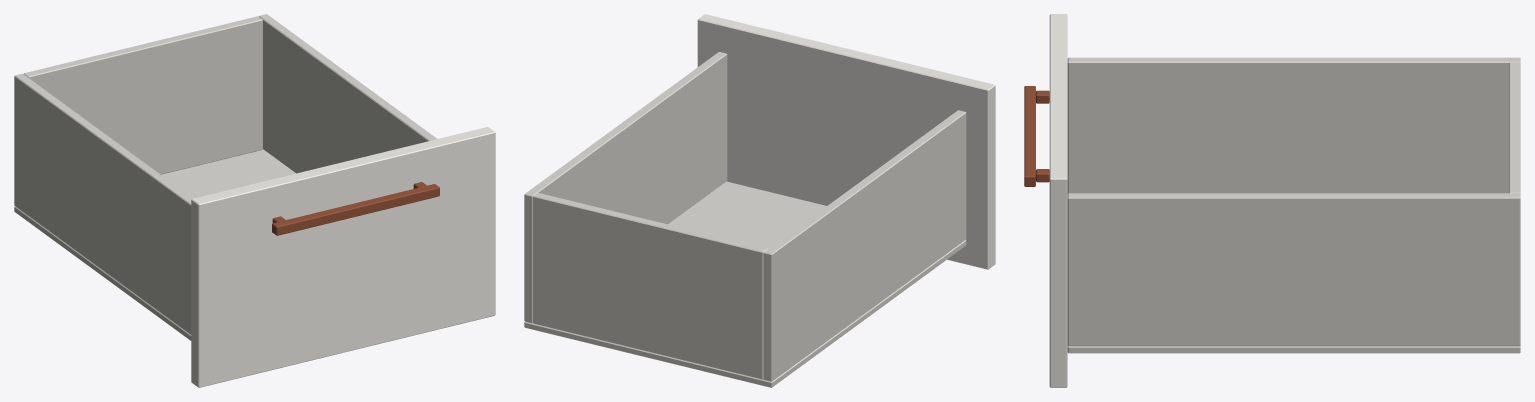
The model's file is l_kitchen_appliances_b4_middle_drawer.glb.
The picture shows the model from 3 angles, left to right: view 1: azimuth 30°, elevation 25°; view 2: azimuth 150°, elevation 25°; view 3: azimuth 270°, elevation 25°; orthographic projection. The views are drawn at different scales.
Parts seen in each view (by area): view 1: l_kitchen_appliances_b4_middle_drawer; view 2: l_kitchen_appliances_b4_middle_drawer; view 3: l_kitchen_appliances_b4_middle_drawer.
Boxes of the visible parts, x1,y1,x2,y2 form: l_kitchen_appliances_b4_middle_drawer: (14,14,495,387); l_kitchen_appliances_b4_middle_drawer: (524,14,995,387); l_kitchen_appliances_b4_middle_drawer: (1024,14,1520,387).
Size of the model in its own units: 0.397 by 0.2346 by 0.504.
